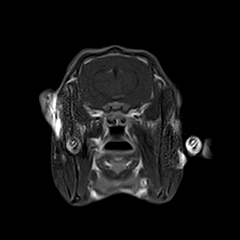Brain: (67, 21, 166, 119)
